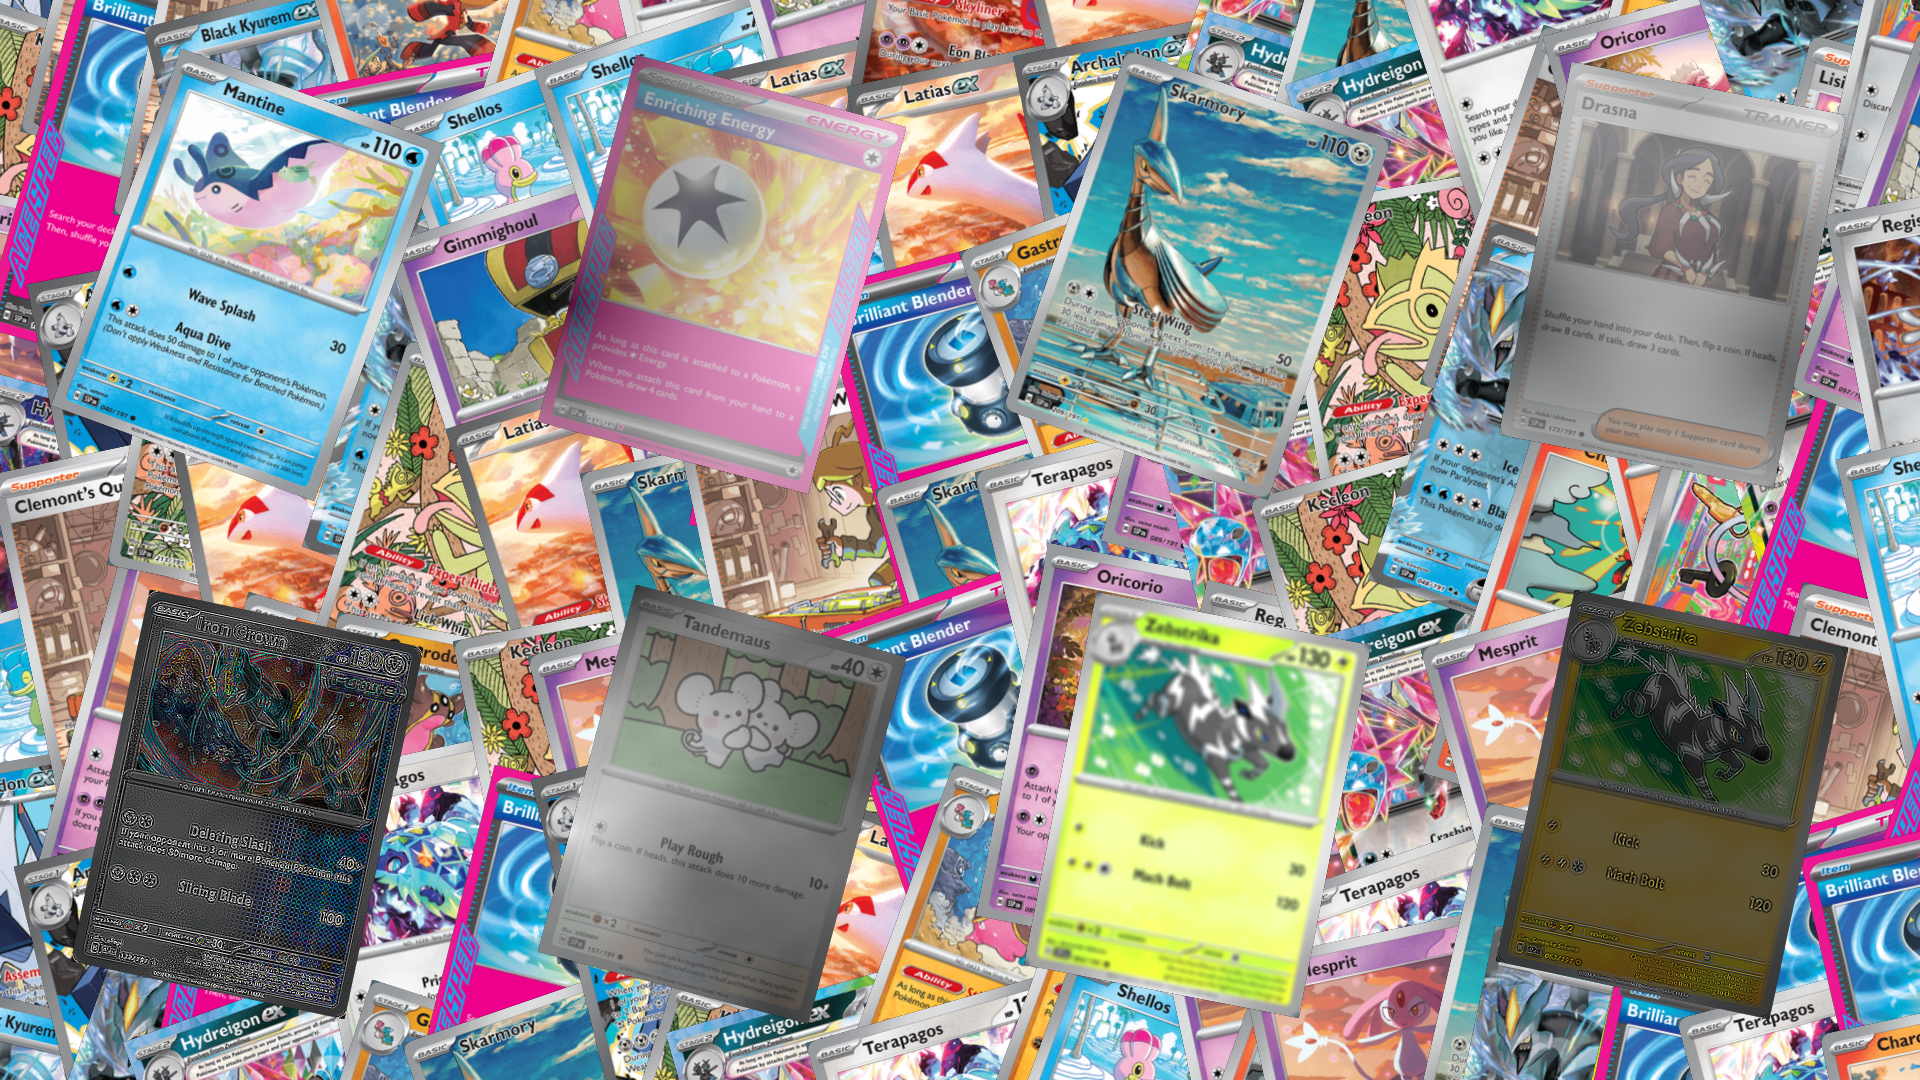Drasna: (1498, 61, 1846, 488)
Enriching_Energy: (537, 54, 906, 495)
Iron_Crown: (70, 589, 423, 1019)
Mantine: (50, 47, 444, 501)
Skarmory: (1002, 49, 1391, 500)
Tandemaus: (537, 584, 906, 1025)
Zebstrika: (1495, 589, 1847, 1019), (1023, 591, 1371, 1018)
